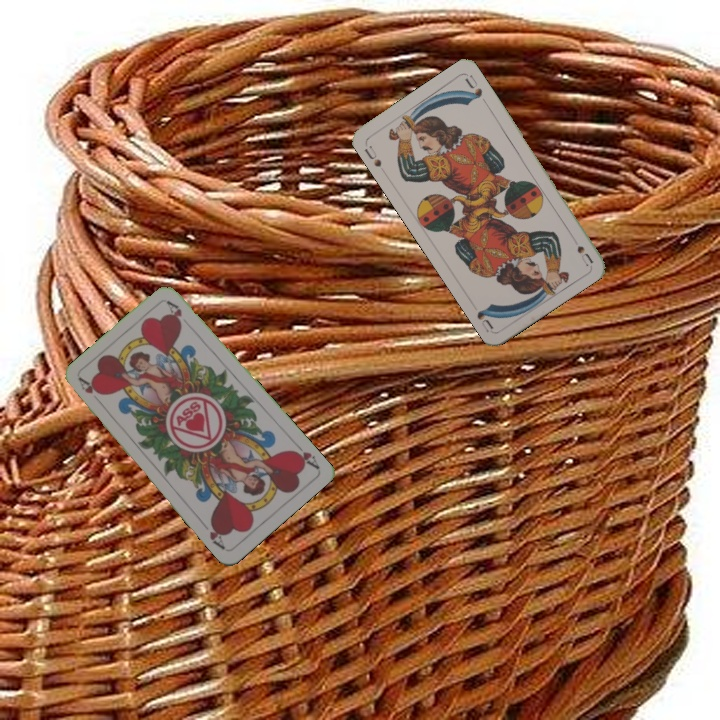HA: (288, 438, 322, 471), (75, 374, 106, 409)
SU: (566, 230, 596, 268), (360, 142, 384, 170)
